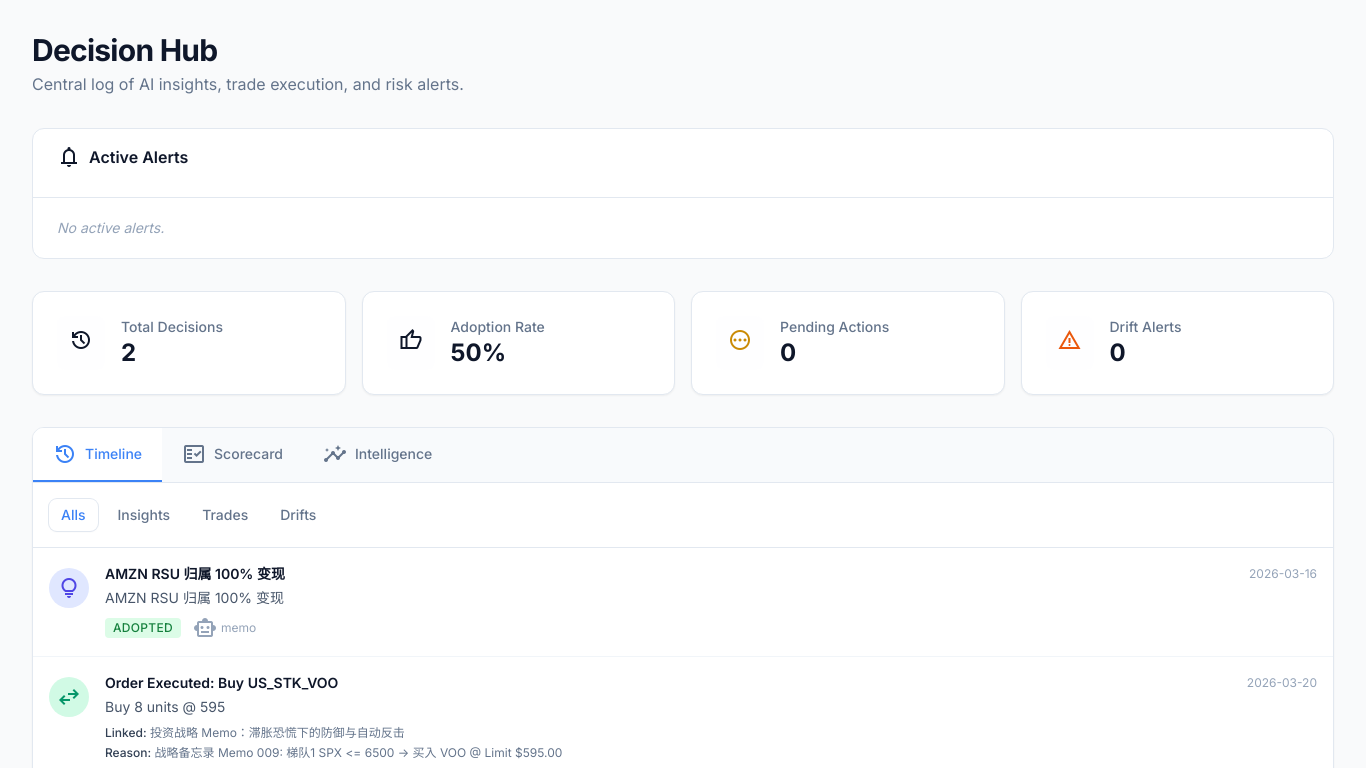
Scenario: DecisionHub intelligence › renders structured intelligence and raw sections without timeline lesson pollution
Expected: the heading "AMZN RSU 归属 100% 变现" is shown, x1=105 y1=564 x2=285 y2=584
Expected: the text "投资战略 Memo：滞胀恐慌下的防御与自动反击" is shown, x1=150 y1=725 x2=405 y2=740
Click the button "Intelligence" at (378, 455), box x1=303 y1=428 x2=452 y2=482
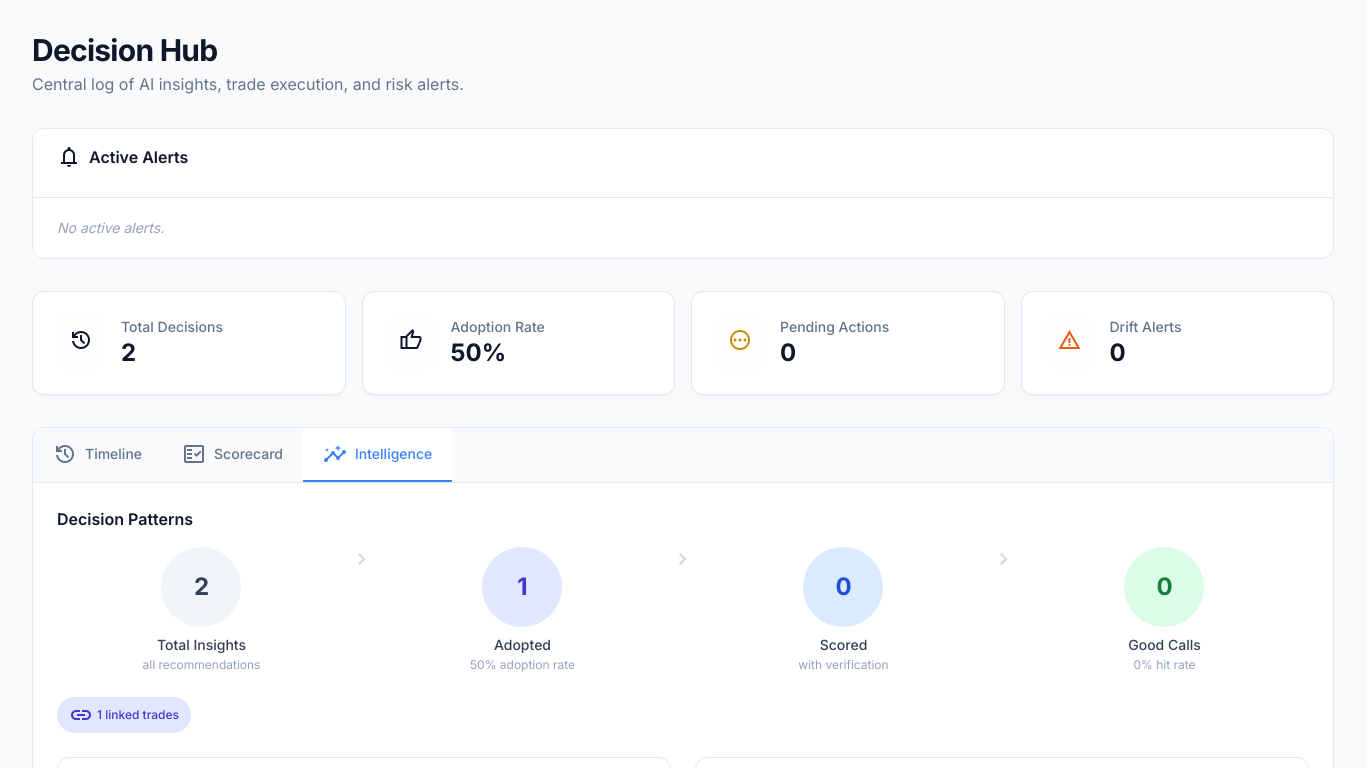
Expected: the text "1 linked trades" is shown, x1=57 y1=697 x2=191 y2=733
